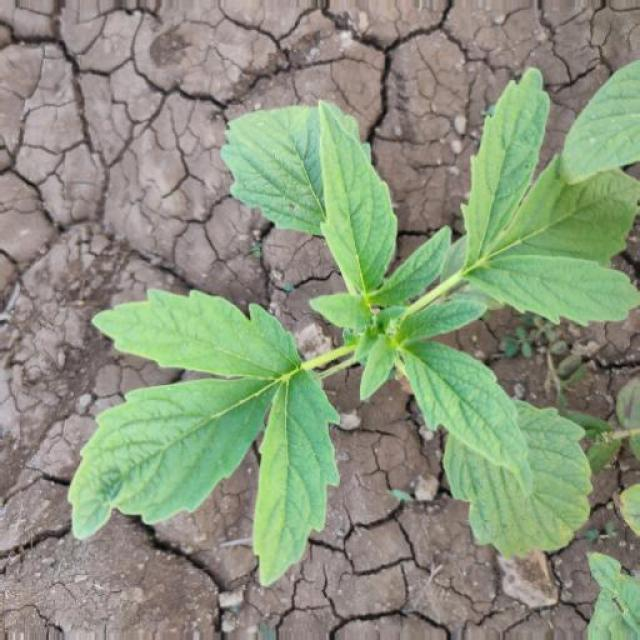crop: (71, 69, 640, 580)
